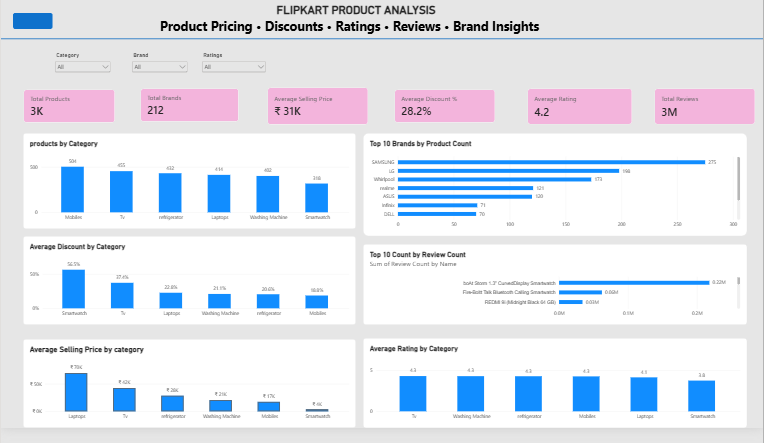

What the dashboard file says about the page in this screenshot:
{"tool":"powerbi","page":{"name":"Executive Overview","canvas":[1920,1080],"ordinal":0},"visuals":[{"type":"textbox","title":"FLIPKART PRODUCT ANALYSIS","box":[400,6.7,988,90],"z":0},{"type":"cardVisual","fields":{"Data":["Flipkart Products.Total Products"]},"box":[55.4,224.3,233.3,86.7],"z":1000},{"type":"cardVisual","fields":{"Data":["Flipkart Products.Total Brands"]},"box":[350.2,221.7,250,86.7],"z":2000},{"type":"cardVisual","fields":{"Data":["Flipkart Products.Average Selling Price"]},"box":[670.2,219.2,256.7,96.7],"z":3000},{"type":"cardVisual","fields":{"Data":["Flipkart Products.Average Discount"]},"box":[990.2,224.3,256.7,86.7],"z":4000},{"type":"cardVisual","fields":{"Data":["Flipkart Products.Total Reviews"]},"box":[1325.4,221.7,266.7,93.3],"z":5000},{"type":"cardVisual","fields":{"Data":["Flipkart Products.Total Reviews","Flipkart Products.Total Reviews"]},"box":[1645.4,221.7,256.7,93.3],"z":6000},{"type":"clusteredColumnChart","title":"products by Category","fields":{"Category":["Flipkart Products.Category"],"Y":["Flipkart Products.Total Products"]},"box":[55.4,335.1,839.1,241.9],"z":7000},{"type":"clusteredBarChart","title":"Top 10 Brands by Product Count","fields":{"Y":["Flipkart Products.Total Products"],"Category":["Flipkart Products.Brand"]},"box":[912.1,335.1,967.6,259.5],"z":8000},{"type":"clusteredColumnChart","title":"Average Selling Price by category","fields":{"Category":["Flipkart Products.Category"],"Y":["Flipkart Products.Average Selling Price"]},"box":[55.4,854.2,839.1,224.3],"z":9000},{"type":"clusteredColumnChart","title":"Average Discount by Category","fields":{"Category":["Flipkart Products.Category"],"Y":["Flipkart Products.Average Discount"]},"box":[55.4,594.6,839.1,224.3],"z":10000},{"type":"clusteredColumnChart","title":"Average Rating by Category","fields":{"Category":["Flipkart Products.Category"],"Y":["Flipkart Products.Average Rating"]},"box":[912.1,851.7,967.6,226.8],"z":11000},{"type":"clusteredBarChart","title":"Top 10 Count by Review Count","fields":{"Category":["Flipkart Products.Name"],"Y":["Sum(Flipkart Products.Review Count)"]},"box":[912.1,614.8,967.6,204.1],"z":12000},{"type":"shape","box":[0,22.7,1920,150],"z":13000},{"type":"slicer","fields":{"Values":["Flipkart Products.Category"]},"box":[130,130,150,70],"z":14000},{"type":"slicer","fields":{"Values":["Flipkart Products.Brand"]},"box":[324,130,150,74],"z":15000},{"type":"slicer","fields":{"Values":["Flipkart Products.Ratings"]},"box":[501.4,131,171.3,68],"z":16000},{"type":"actionButton","box":[30,32.5,100,40],"z":17000}]}

Visuals, with their boxes in screenshot pixels (x1, y1, x2, y2), scaled from the page's 1920x1080 canvas onto the 764x443 screenshot:
"FLIPKART PRODUCT ANALYSIS" textbox: BBox(159, 3, 552, 40)
cardVisual - Flipkart Products.Total Products: BBox(22, 92, 115, 128)
cardVisual - Flipkart Products.Total Brands: BBox(139, 91, 239, 127)
cardVisual - Flipkart Products.Average Selling Price: BBox(267, 90, 369, 130)
cardVisual - Flipkart Products.Average Discount: BBox(394, 92, 496, 128)
cardVisual - Flipkart Products.Total Reviews: BBox(527, 91, 634, 129)
cardVisual - Flipkart Products.Total Reviews x Flipkart Products.Total Reviews: BBox(655, 91, 757, 129)
"products by Category" clusteredColumnChart: BBox(22, 137, 356, 237)
"Top 10 Brands by Product Count" clusteredBarChart: BBox(363, 137, 748, 244)
"Average Selling Price by category" clusteredColumnChart: BBox(22, 350, 356, 442)
"Average Discount by Category" clusteredColumnChart: BBox(22, 244, 356, 336)
"Average Rating by Category" clusteredColumnChart: BBox(363, 349, 748, 442)
"Top 10 Count by Review Count" clusteredBarChart: BBox(363, 252, 748, 336)
shape: BBox(0, 9, 763, 71)
slicer - Flipkart Products.Category: BBox(52, 53, 111, 82)
slicer - Flipkart Products.Brand: BBox(129, 53, 189, 84)
slicer - Flipkart Products.Ratings: BBox(200, 54, 268, 82)
actionButton: BBox(12, 13, 52, 30)
